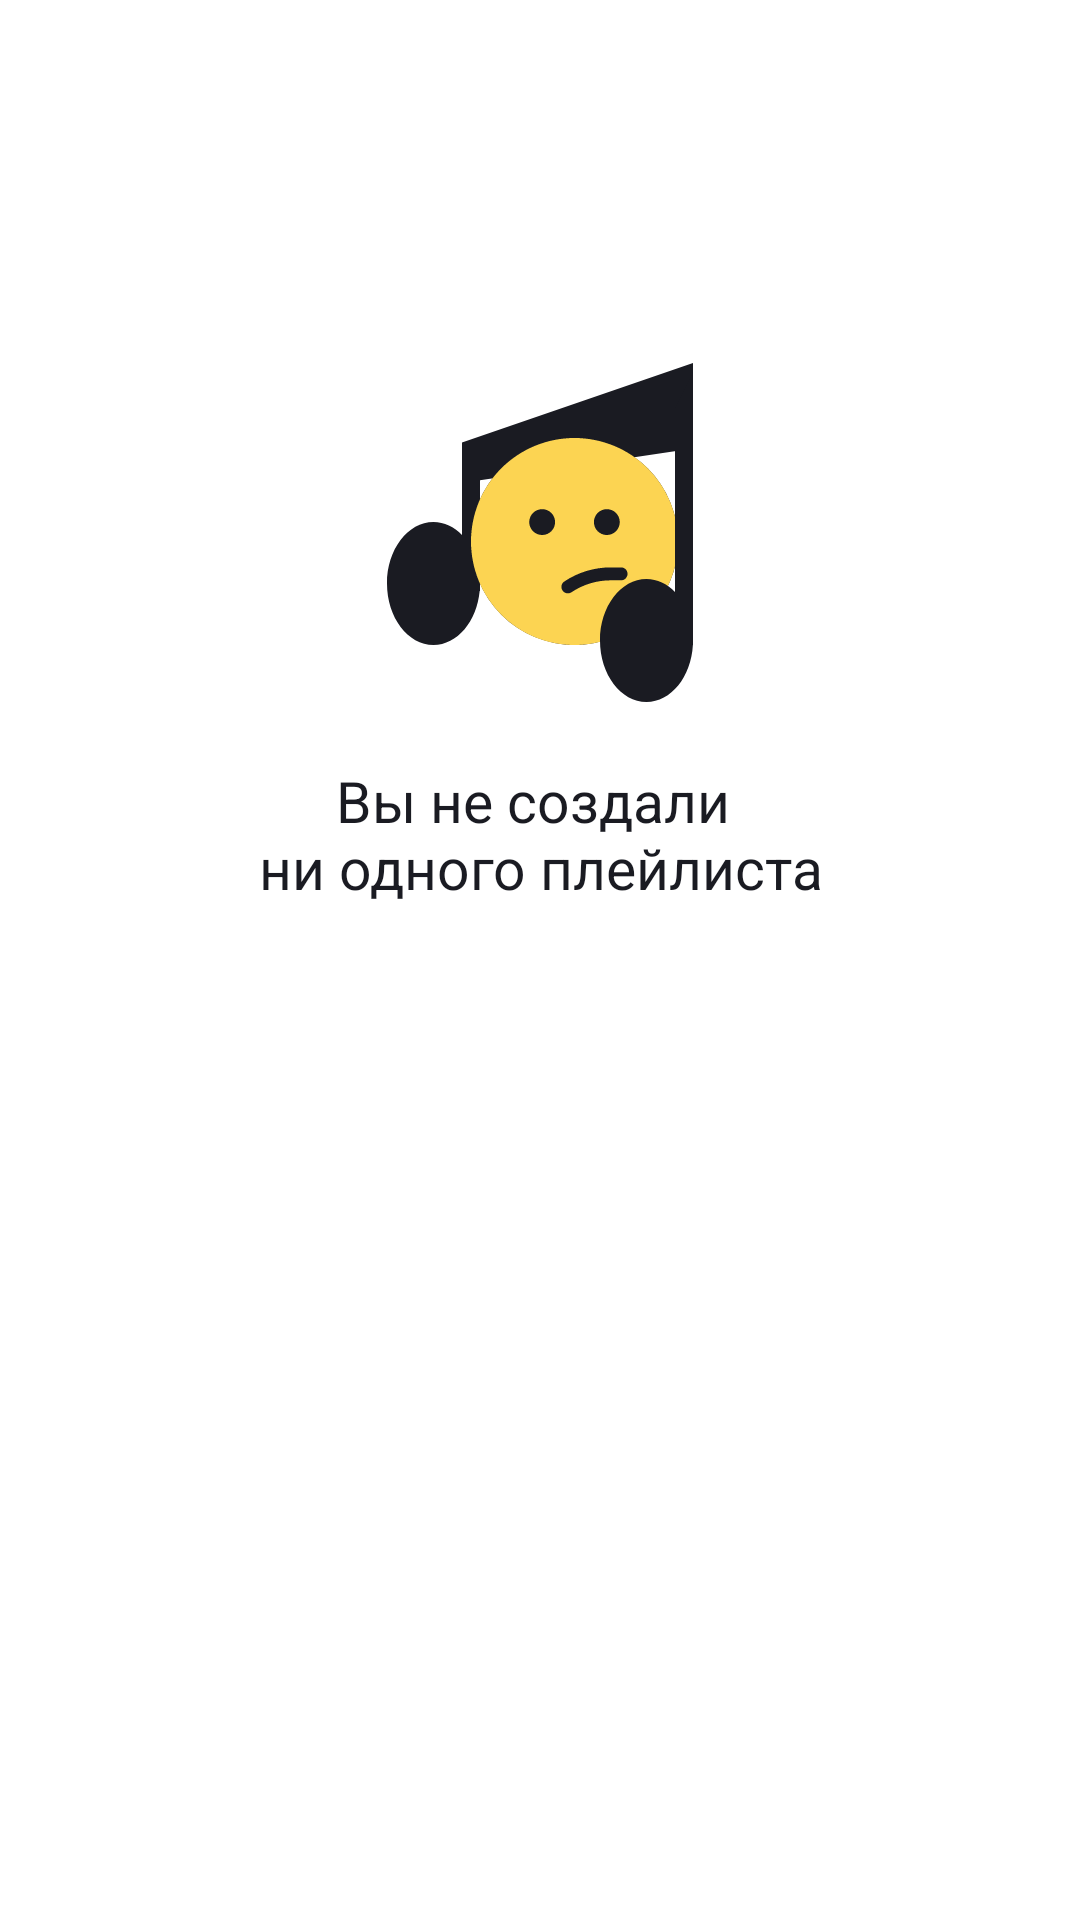

Icon click points for this 1080×1920 phone screenshot, format (x=x, y=y):
nothing found: (x=540, y=532)
